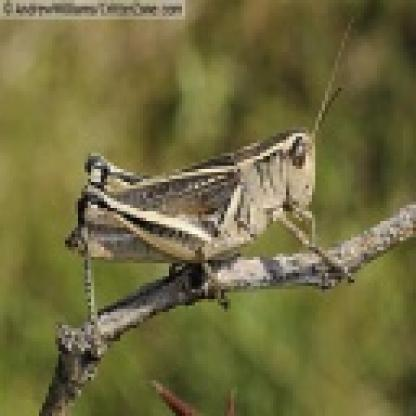grasshopper: (69, 78, 358, 300)
